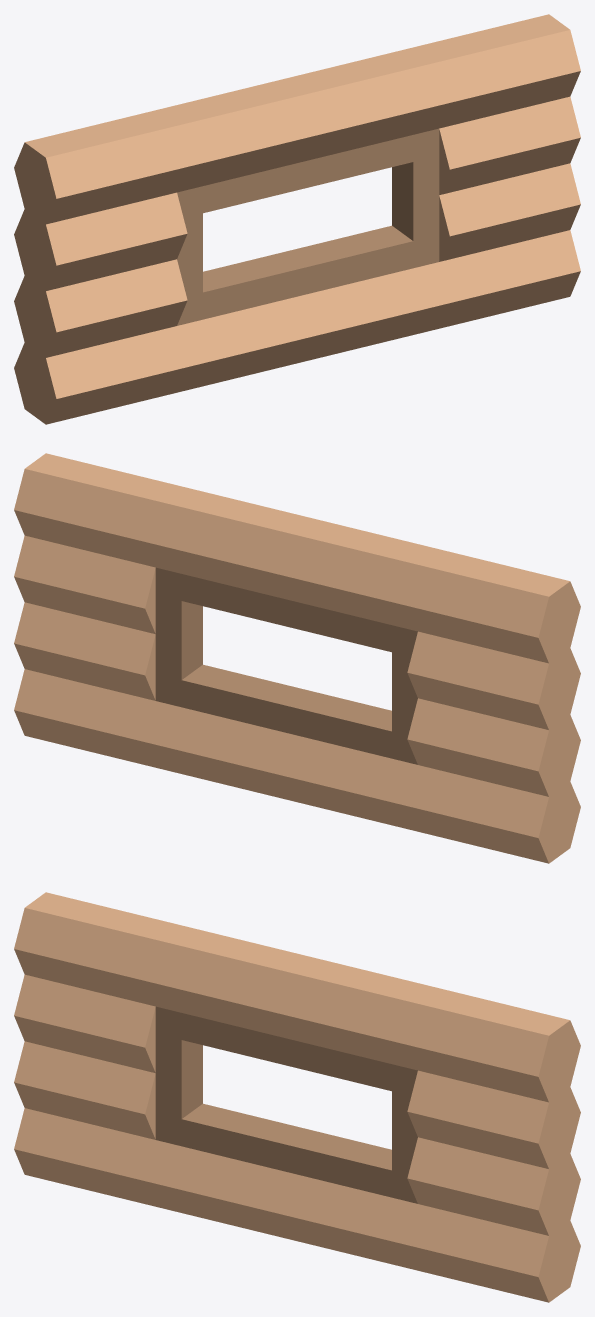
Rendered from cabinWindowHalf.glb.
The picture shows the model from 3 angles, top to bottom: view 1: azimuth 30°, elevation 25°; view 2: azimuth 150°, elevation 25°; view 3: azimuth 330°, elevation 25°; orthographic projection.
Parts seen in each view (by area): view 1: cabinWindowHalf; view 2: cabinWindowHalf; view 3: cabinWindowHalf.
Part boxes in pixels (bbox=[...]): cabinWindowHalf: bbox=[14, 14, 580, 424]; cabinWindowHalf: bbox=[14, 453, 580, 863]; cabinWindowHalf: bbox=[14, 892, 580, 1302].
Size of the model in its own units: 1 by 0.4864 by 0.1404.
